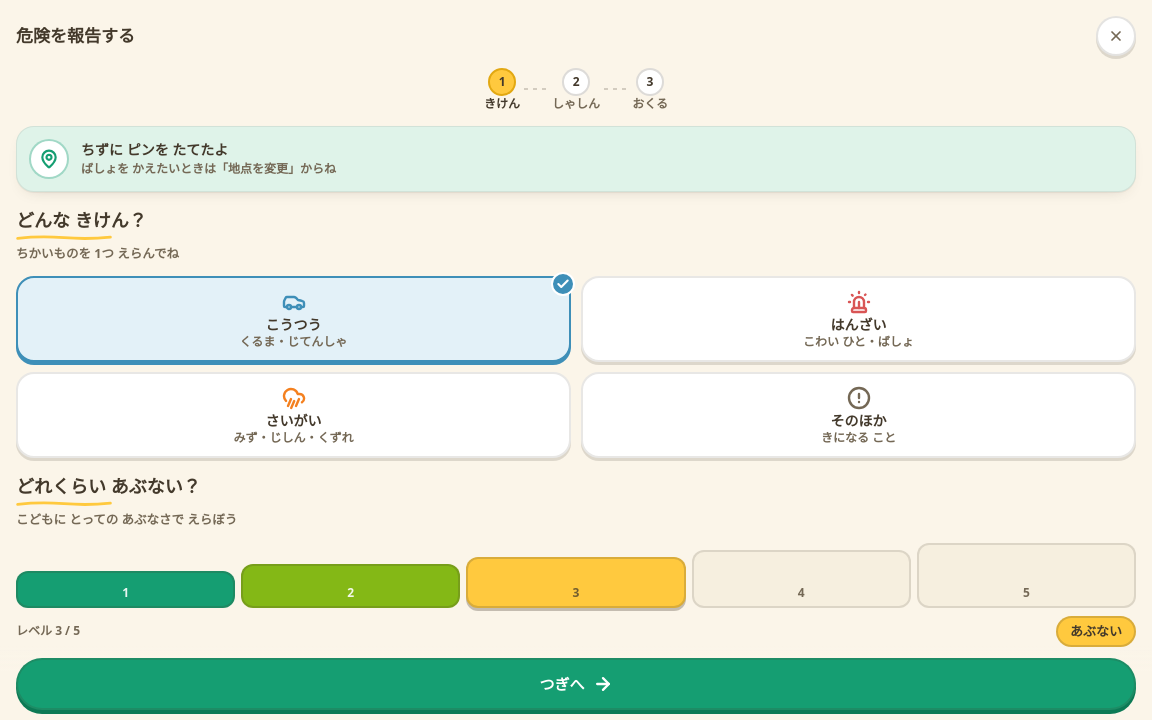
Scenario: DangerReportForm › renders a quick simulation summary before submit when analysis is ready
Click the button with test id "wizard-next" at {"x": 576, "y": 684}, box [16,658,1136,710]
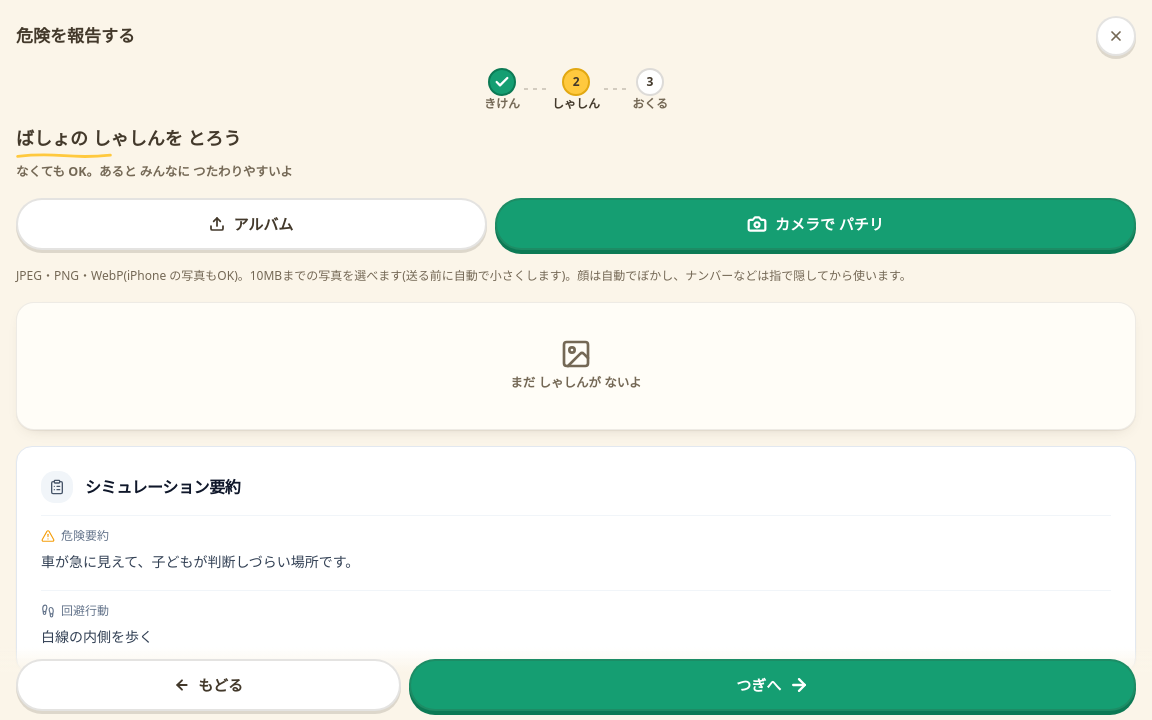
Check: the heading "シミュレーション要約" is shown, box [85,475,240,499]
Check: the text "危険要約" is shown, box [41,527,109,544]
Check: the text "回避行動" is shown, box [41,602,109,619]
